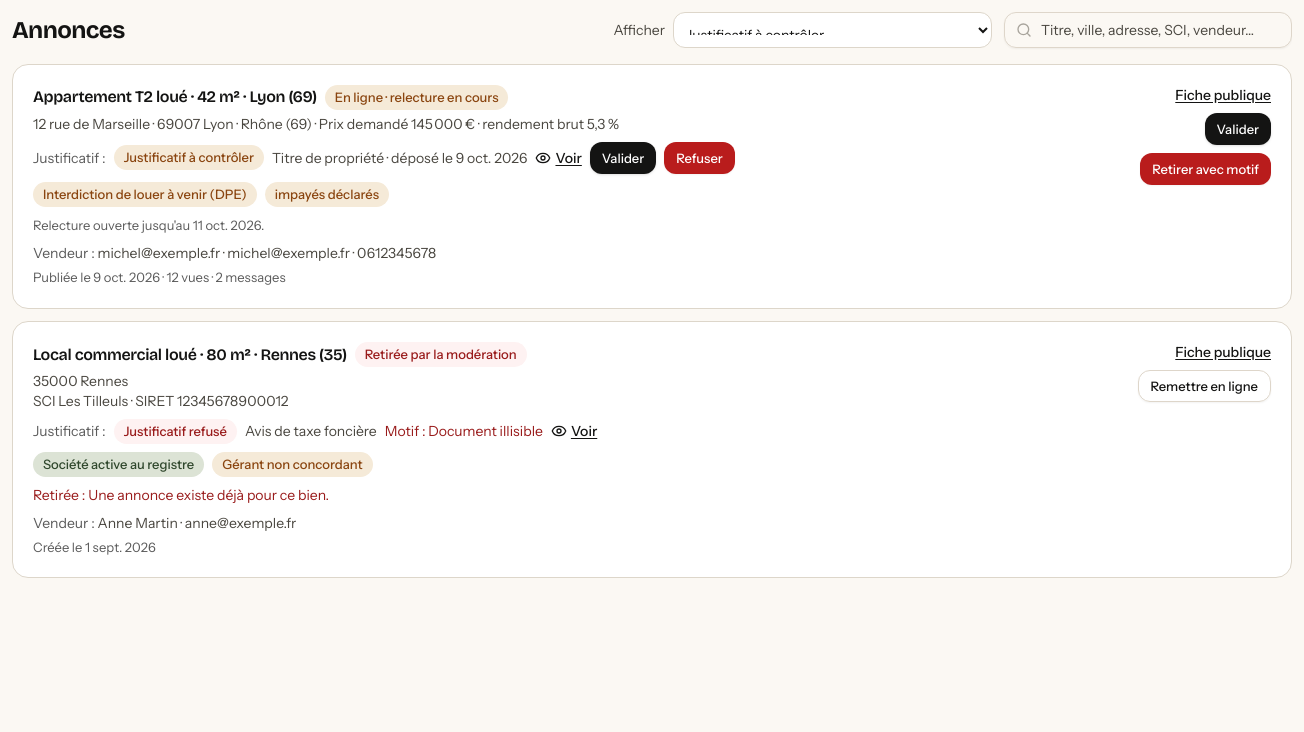
Test: AdminProperties › filtre « Justificatif à contrôler »
The width and height of the screenshot is (1304, 732).
Select "Justificatif à contrôler" in the dropdown with test id "properties-filter" at (832, 30), box [673,12,992,48]
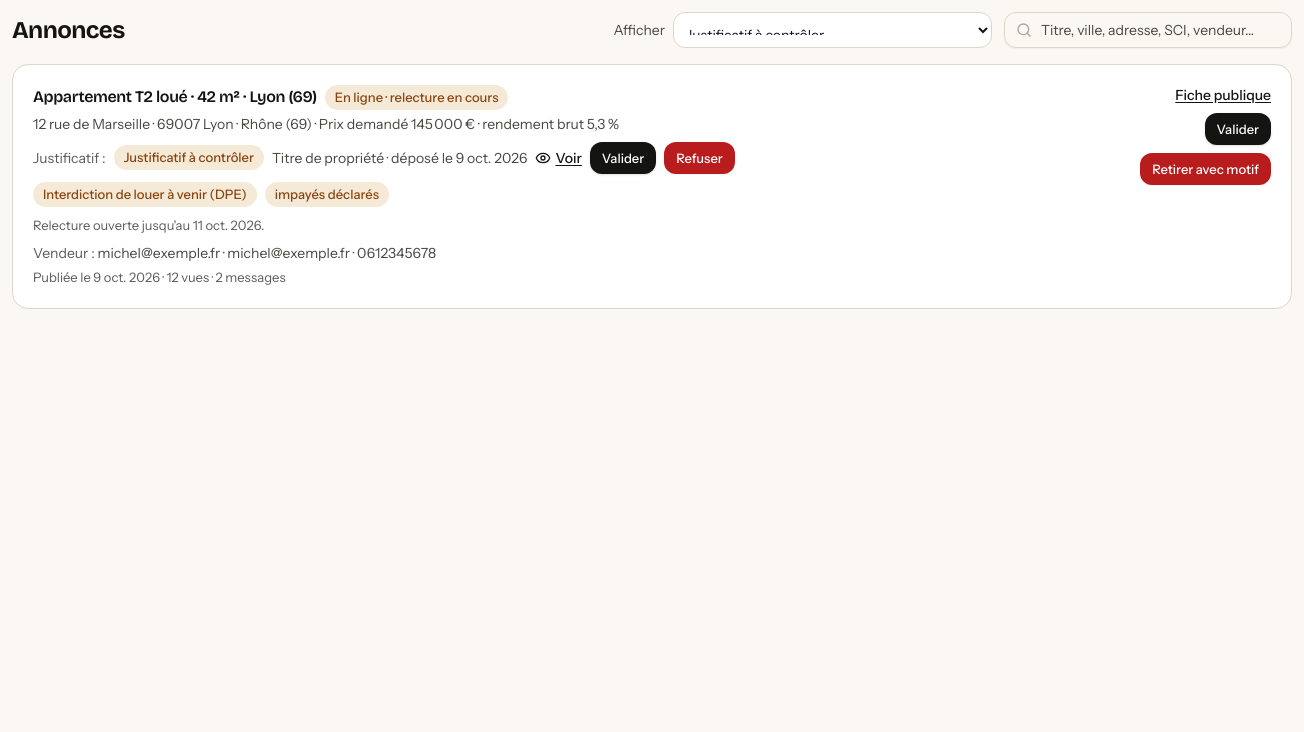
Expected: the list item with test id "property-c1" is shown, [12,64,1292,309]
Result: the list item with test id "property-c2" is gone
